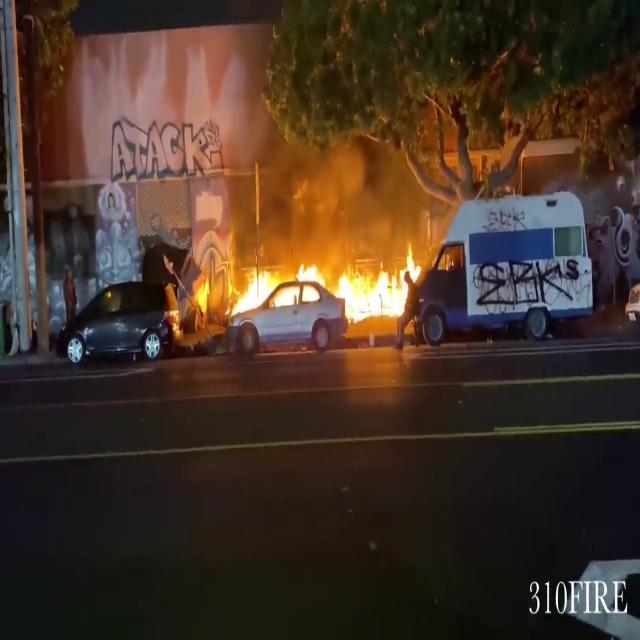Fire: (192, 250, 420, 338)
Smoke: (270, 122, 412, 250)
